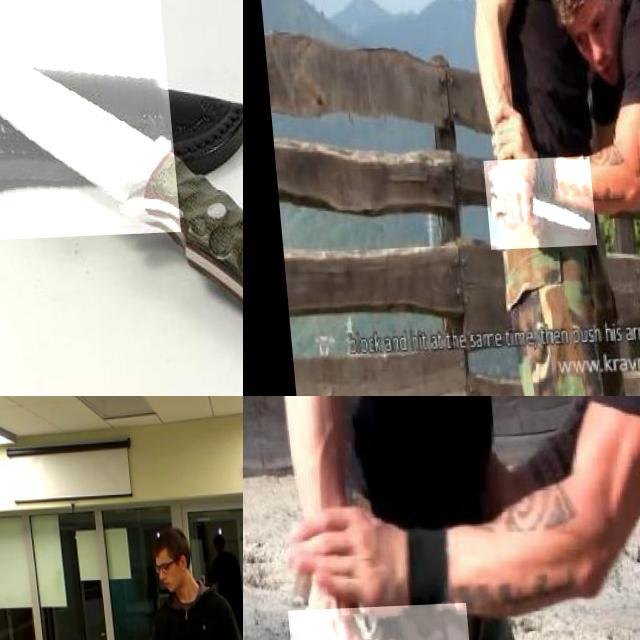-: (0, 0, 173, 243), (476, 159, 588, 252)
